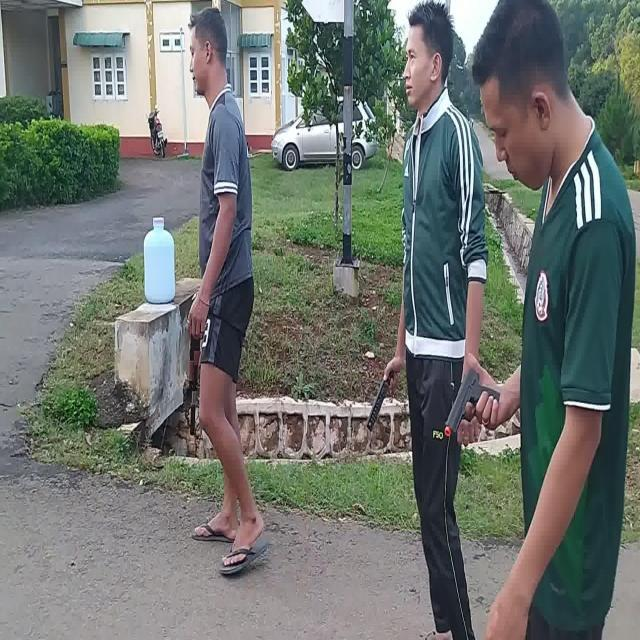gun: (446, 370, 500, 436), (188, 332, 200, 436)
